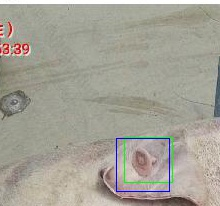text: (124, 137, 172, 182)
